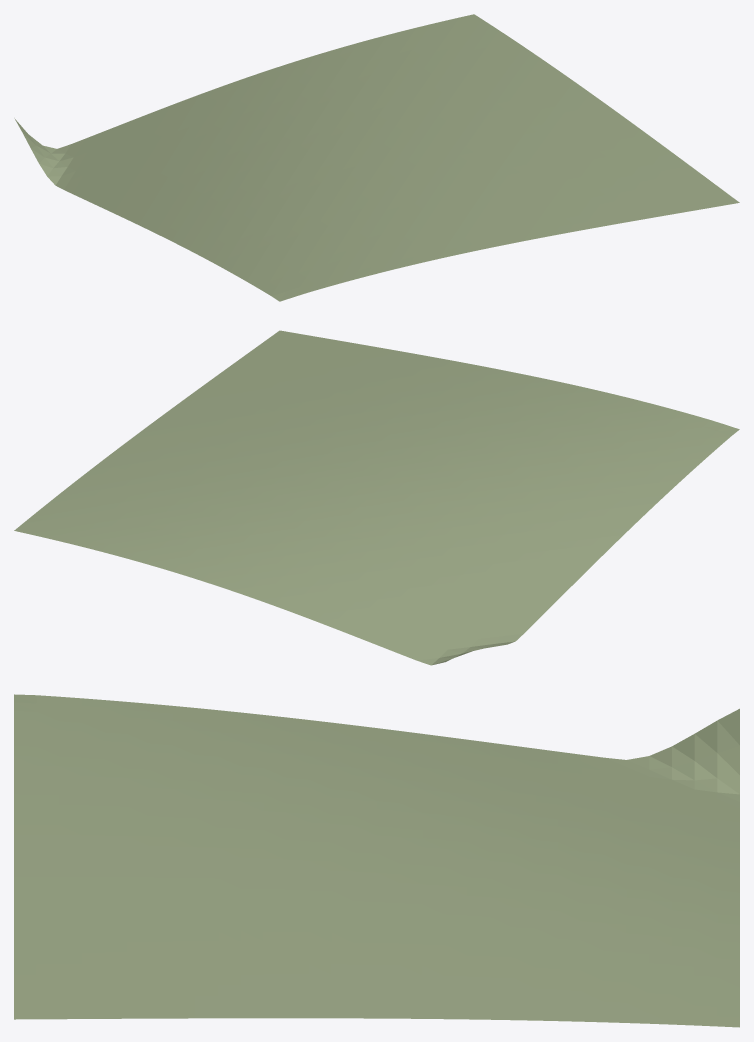
Rendered from expanse-7-26.glb.
3 renders of one model, top to bottom at view 1: azimuth 30°, elevation 25°; view 2: azimuth 150°, elevation 25°; view 3: azimuth 270°, elevation 25°, orthographic. The views are drawn at different scales.
Visible parts, largest first — view 1: expanse-7-26; view 2: expanse-7-26; view 3: expanse-7-26.
Boxes of the visible parts, <box> form: expanse-7-26: <box>14,14,739,301</box>; expanse-7-26: <box>14,330,739,665</box>; expanse-7-26: <box>14,694,739,1027</box>.
Size of the model in its own units: 256 by 30.06 by 256.
